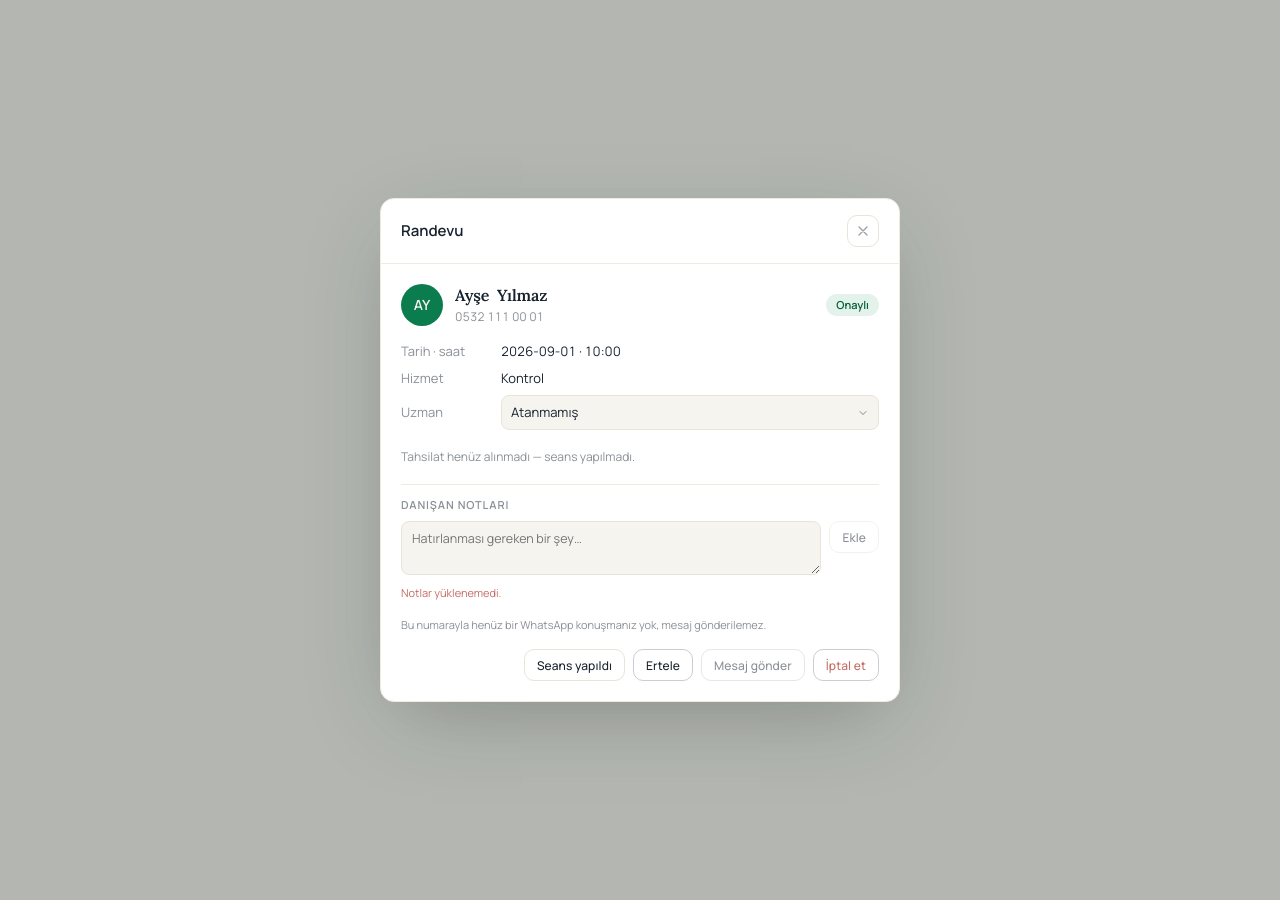
Scenario: AppointmentDetail — erteleme › saat listesi kliniğin ayarından geliyor
Click the button "Ertele": (663, 665) [633,649,693,681]
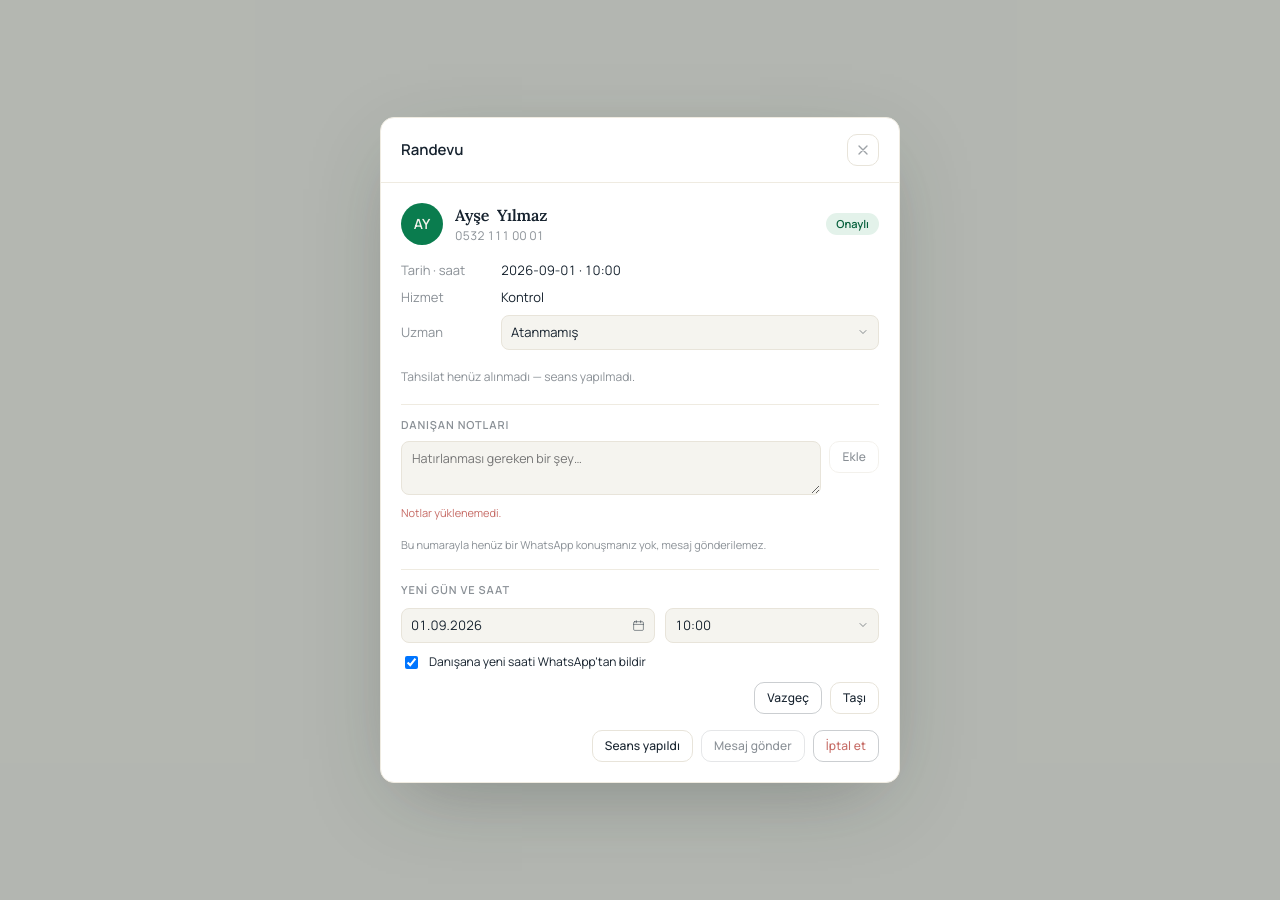
Click the dropdown named "Yeni saat": (772, 625) [665,608,879,643]
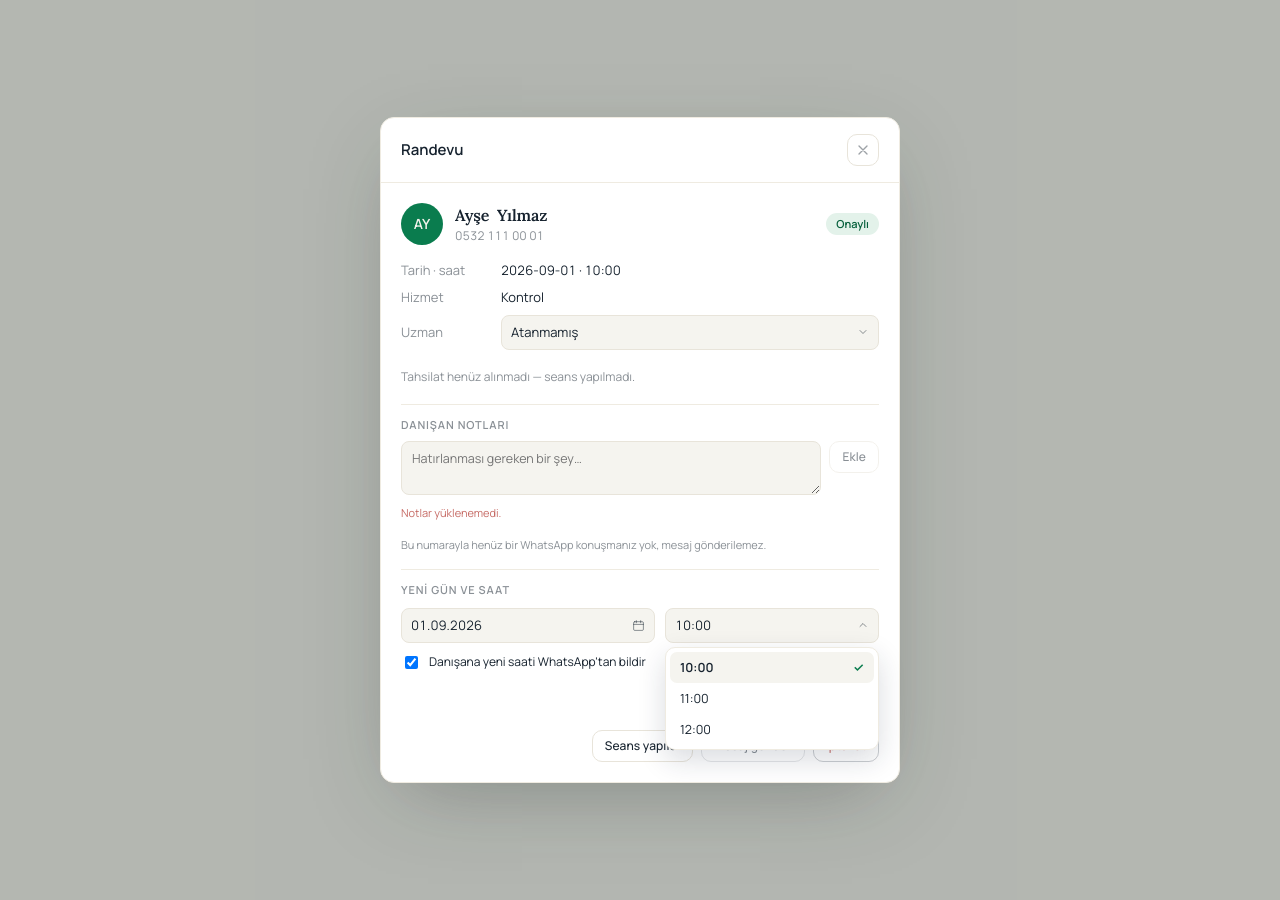
Expected: the number of options is 3, [670,652,874,683]; [680,690,709,707]; [680,721,711,738]
